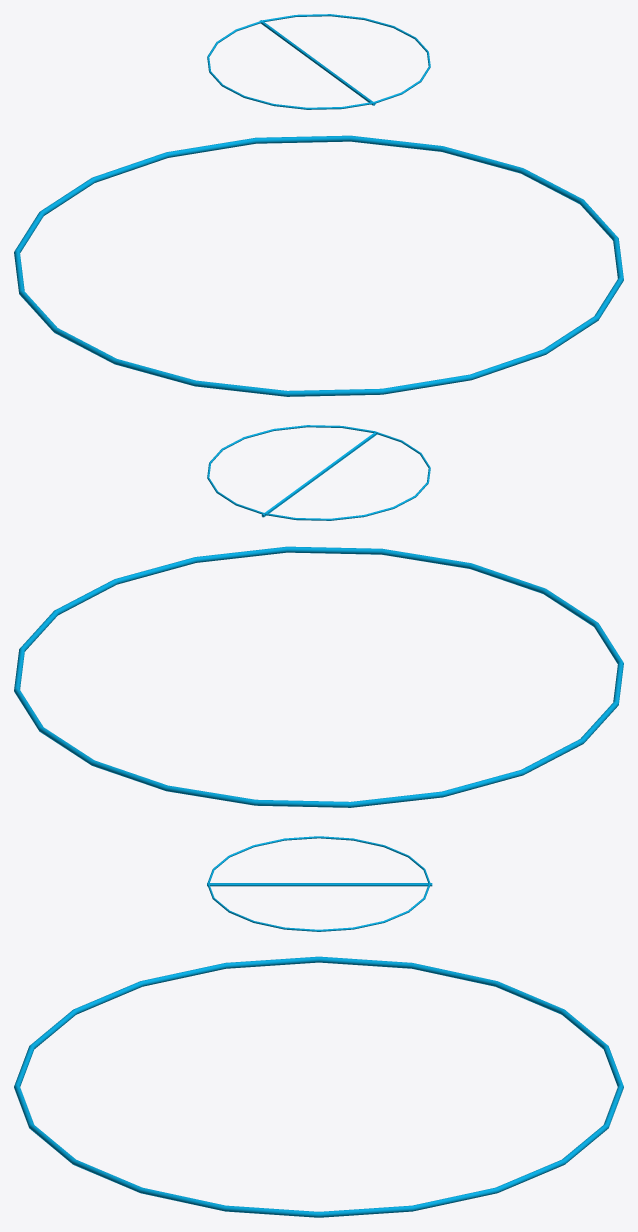
Rendered from Lampshade_02.fbx.
The picture shows the model from 3 angles, top to bottom: view 1: azimuth 30°, elevation 25°; view 2: azimuth 150°, elevation 25°; view 3: azimuth 270°, elevation 25°; orthographic projection.
Parts seen in each view (by area): view 1: Lampshade_02; view 2: Lampshade_02; view 3: Lampshade_02.
Part boxes in pixels (x1=…): Lampshade_02: x1=14, y1=14, x2=623, y2=396; Lampshade_02: x1=14, y1=425, x2=623, y2=807; Lampshade_02: x1=14, y1=836, x2=623, y2=1217.
Size of the model in its own units: 72.91 by 27.28 by 72.91.
